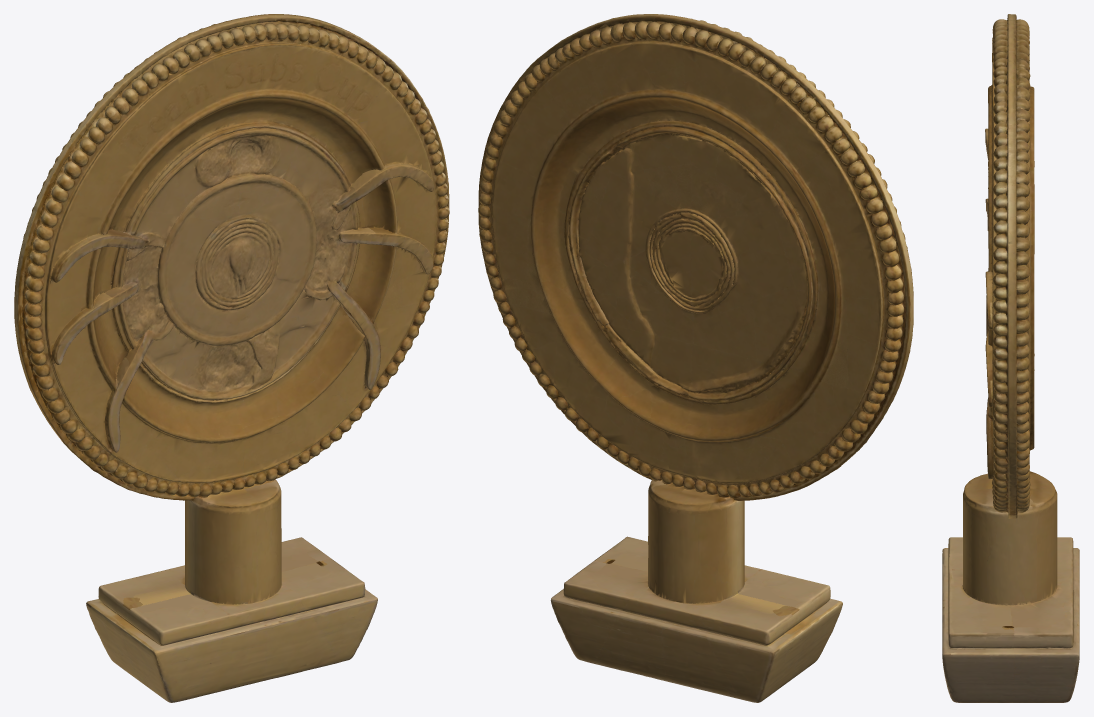
The model's file is copa_7.glb.
3 views of the same model, side by side, from view 1: azimuth 30°, elevation 25°; view 2: azimuth 150°, elevation 25°; view 3: azimuth 270°, elevation 25° (orthographic). The views are drawn at different scales.
Visible parts, largest first — view 1: tmpfdw5ybj5obj; view 2: tmpfdw5ybj5obj; view 3: tmpfdw5ybj5obj.
Part boxes in pixels (left/top/right/bottom): tmpfdw5ybj5obj: left=14, top=14, right=449, bottom=702; tmpfdw5ybj5obj: left=478, top=14, right=913, bottom=702; tmpfdw5ybj5obj: left=942, top=14, right=1079, bottom=702.
Bounding box in the file's own units: 0.7066 × 1 × 0.1996.
1 material, 1 textured.
